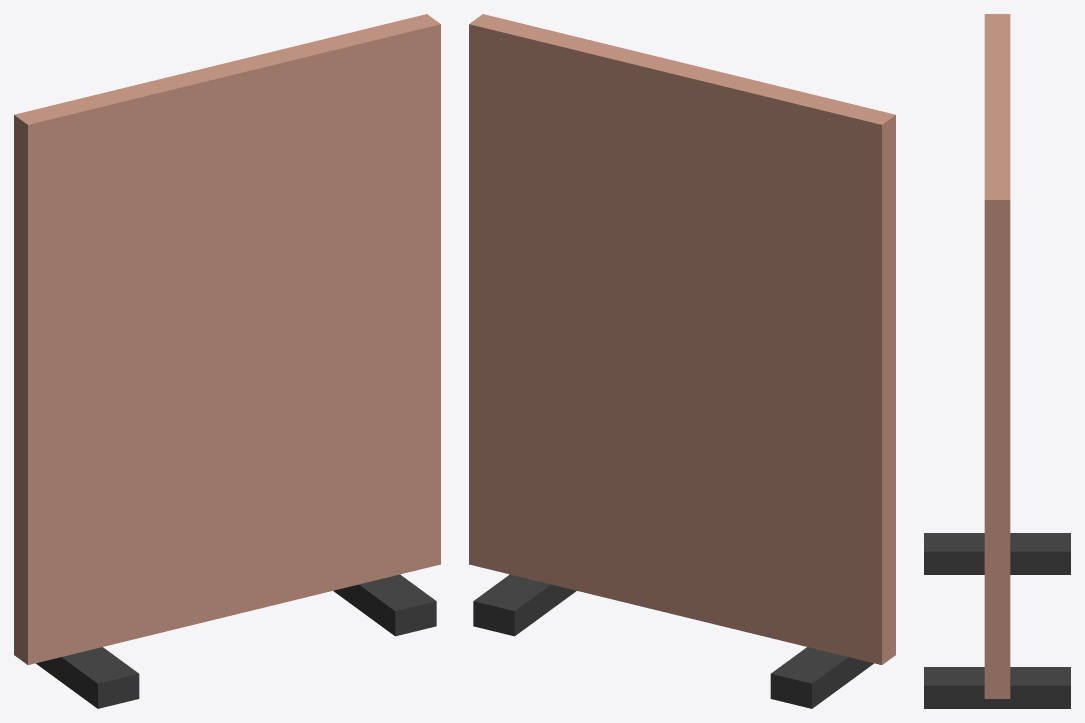
3 views of the same model, side by side, from view 1: azimuth 30°, elevation 25°; view 2: azimuth 150°, elevation 25°; view 3: azimuth 270°, elevation 25° (orthographic). The views are drawn at different scales.
Visible parts, largest first — view 1: Panel, Panel foot, Panel foot.001; view 2: Panel, Panel foot, Panel foot.001; view 3: Panel, Panel foot.001, Panel foot.
Part boxes in pixels (box(x1,y1,x2,y2)): Panel: box(14, 14, 440, 664); Panel foot: box(36, 647, 139, 708); Panel foot.001: box(333, 574, 436, 636); Panel: box(469, 14, 895, 664); Panel foot: box(770, 647, 873, 708); Panel foot.001: box(473, 574, 576, 636); Panel: box(984, 14, 1010, 698); Panel foot.001: box(924, 667, 1070, 708); Panel foot: box(924, 533, 1070, 574).
Size of the model in its own units: 1.2 by 1.58 by 0.4.
1 material, 1 textured.
